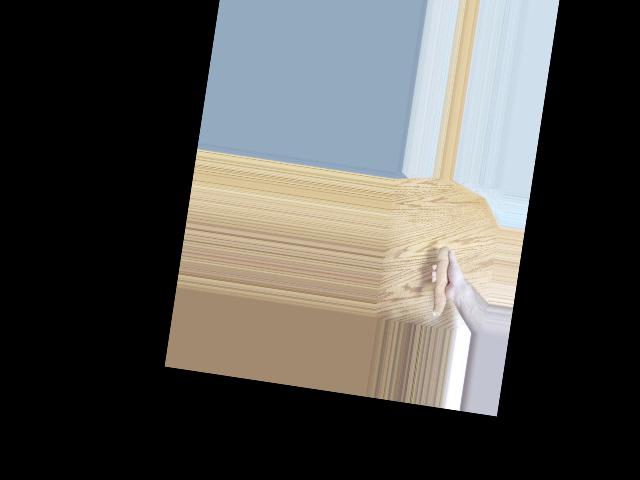sweet_potato: (425, 239, 459, 319)
